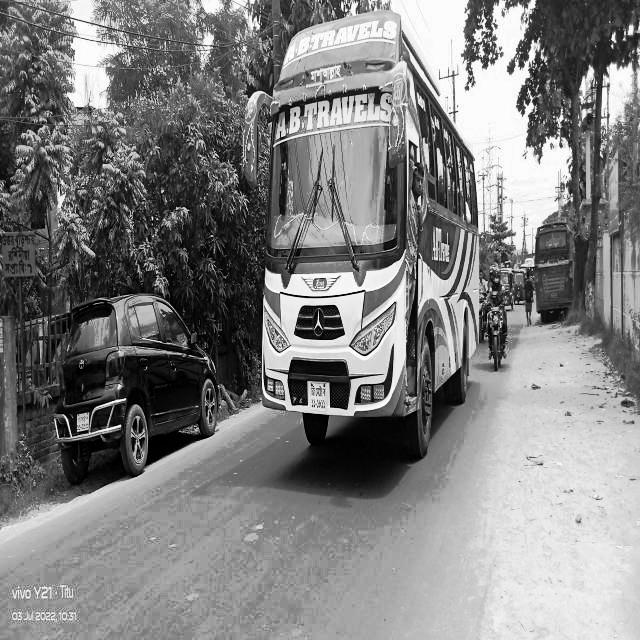Bus: (241, 7, 483, 457)
